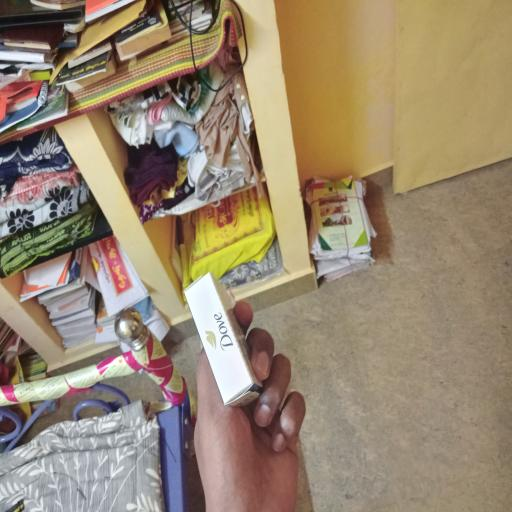Dove`1: (180, 270, 260, 410)
